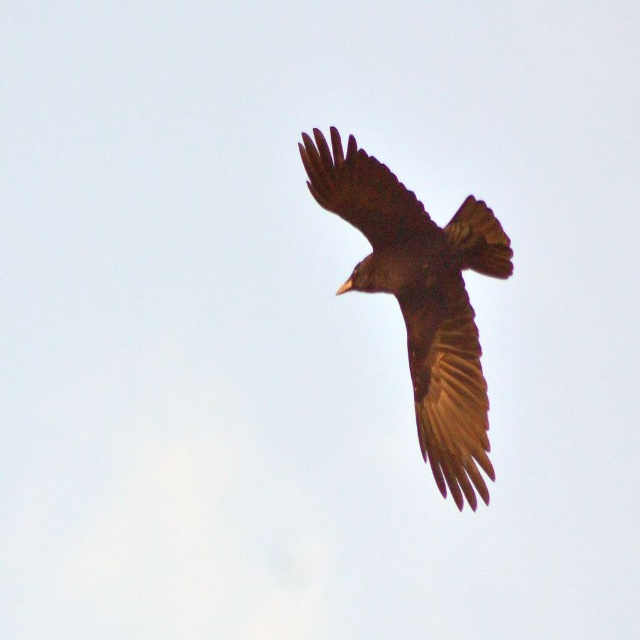Eagle: (293, 123, 517, 518)
